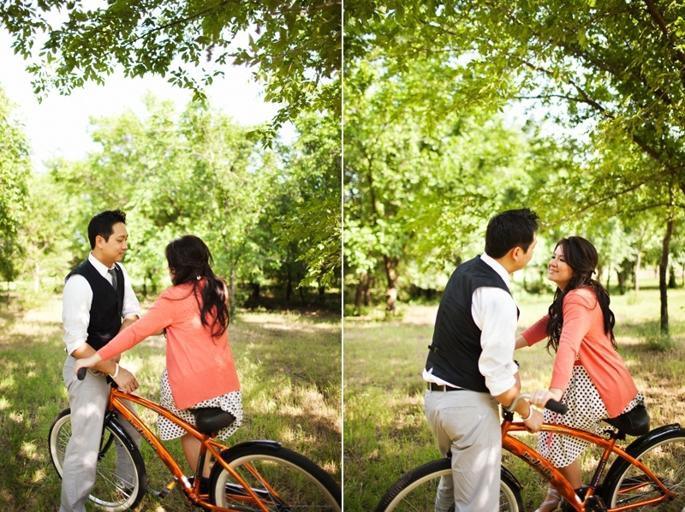non-vehicle: (377, 344, 684, 511), (45, 365, 342, 511)
